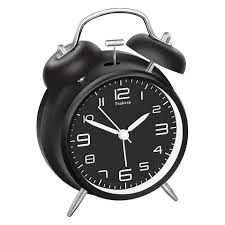alarm_clock: (34, 0, 194, 216), (34, 0, 188, 216)
